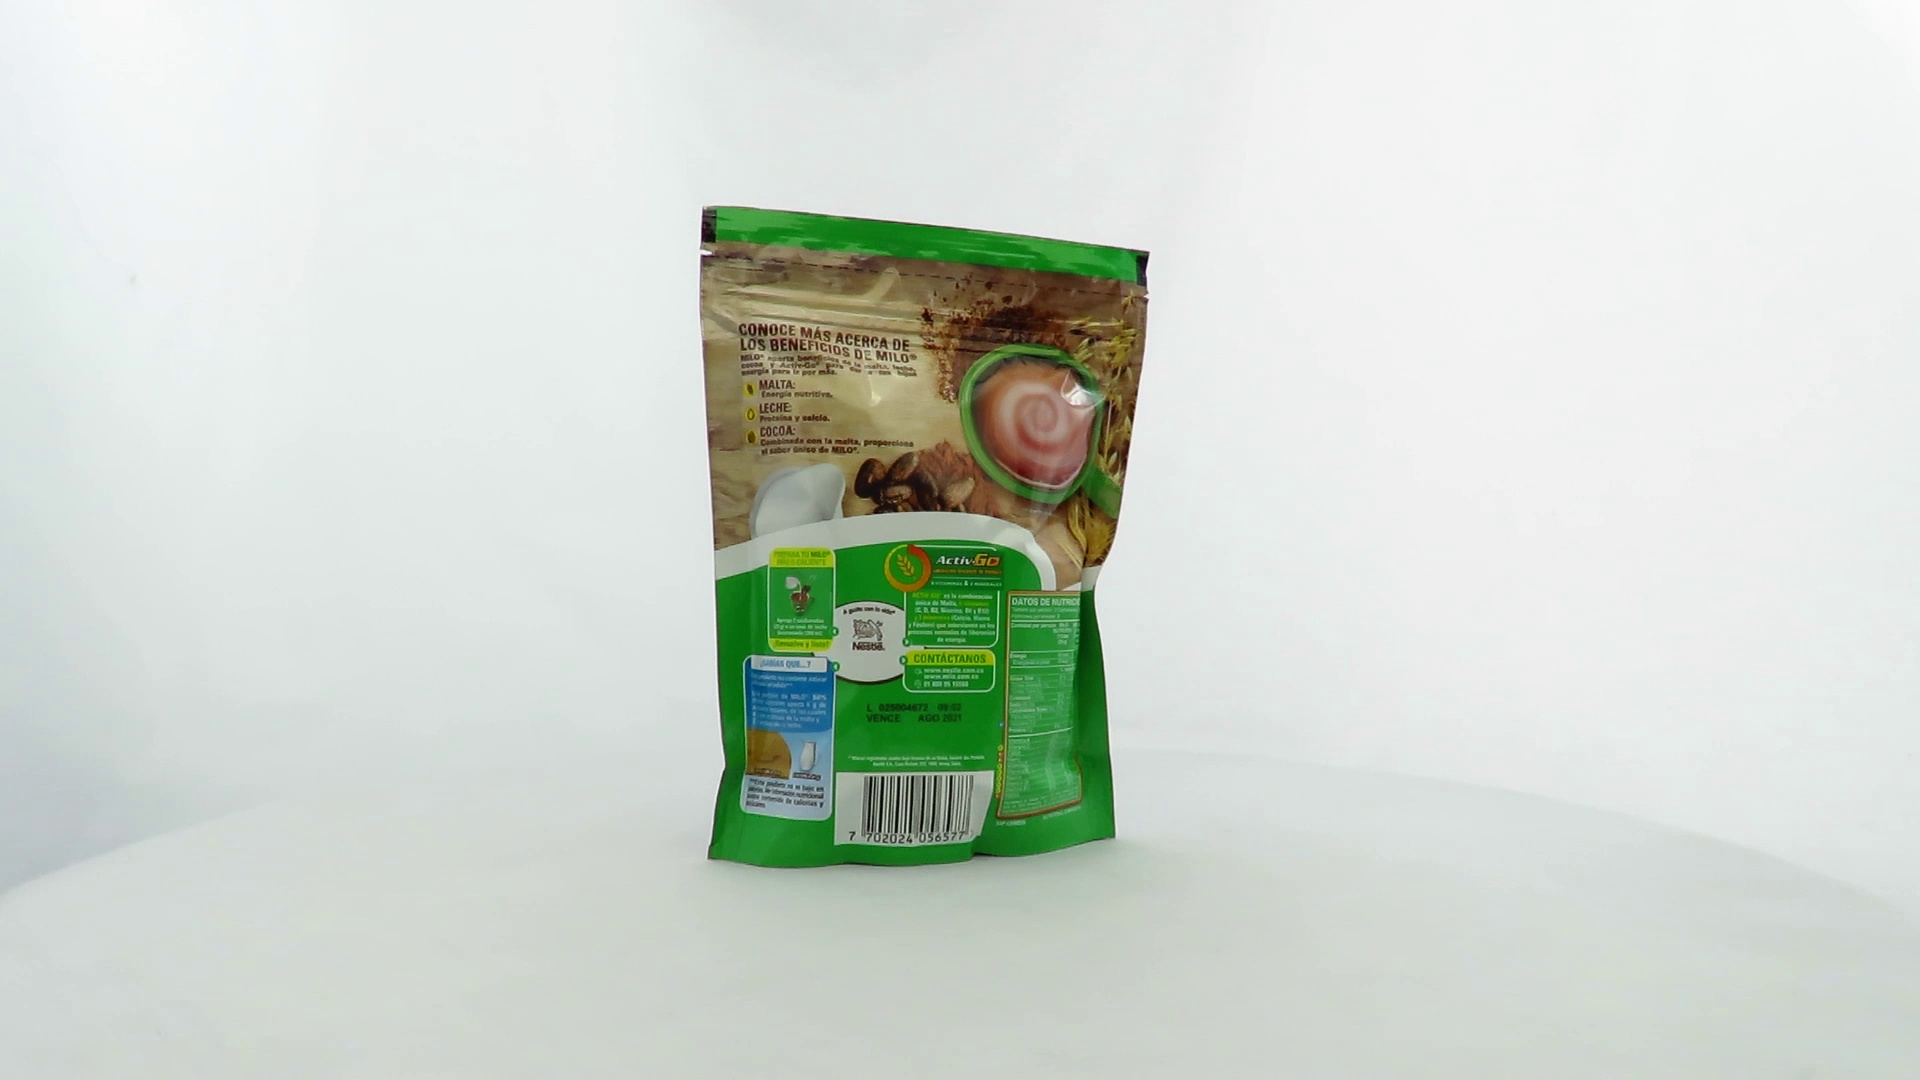COL0170205DYP20000: (694, 200, 1156, 876)
